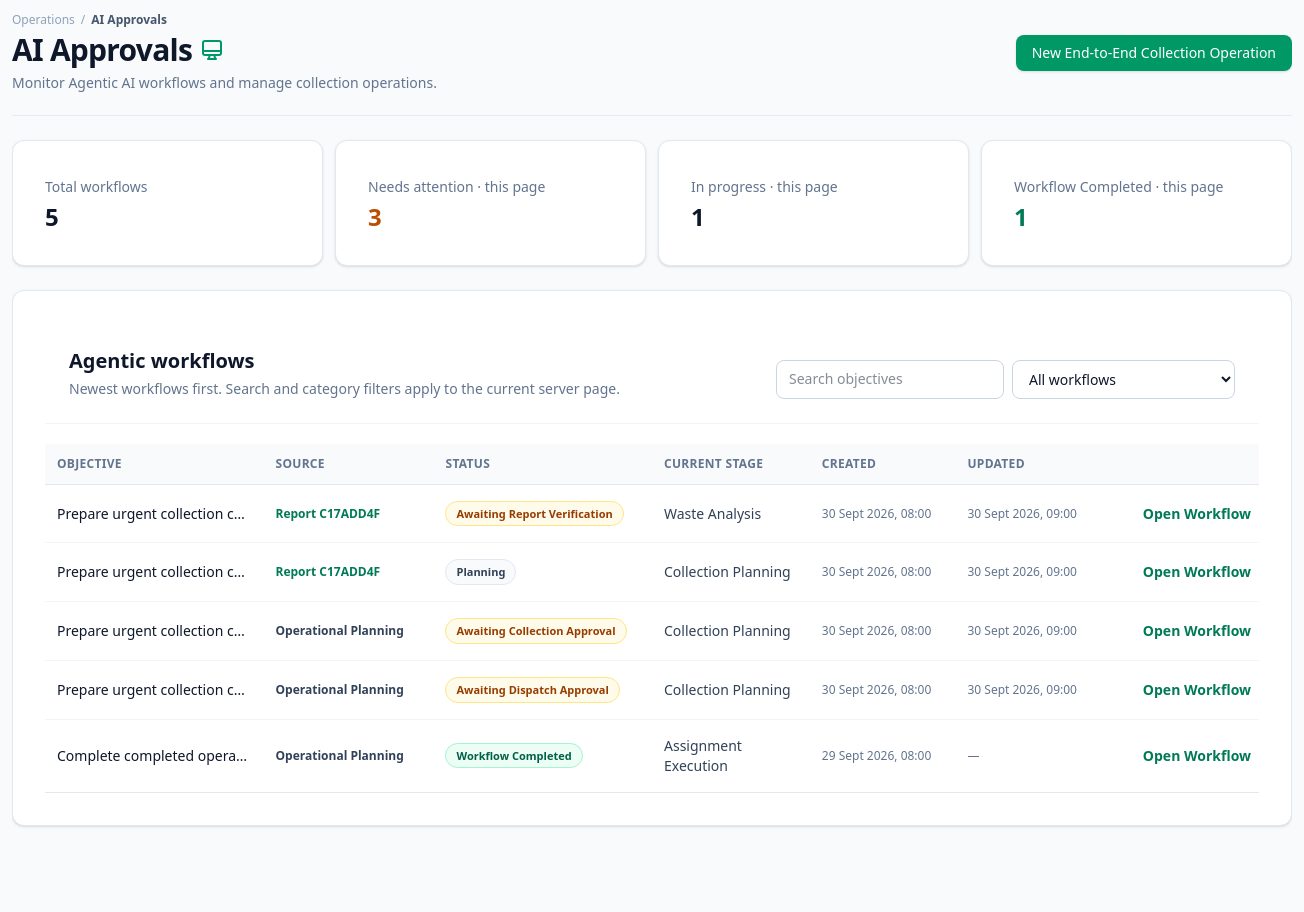
Scenario: AiApprovalsPage dashboard and initiation › shows report verification as human attention with a friendly report link and keeps planning out of that filter
Expected: the number of links "Report C17ADD4F" is 2, [276,505,380,522]; [276,563,380,580]
Expected: the cell "Report C17ADD4F" next to "Awaiting Report Verification" is shown, [276,505,380,522]
Select "Needs attention" in the dropdown named "Workflow status filter". click: point(1124, 379)
box: [1012,360,1235,399]
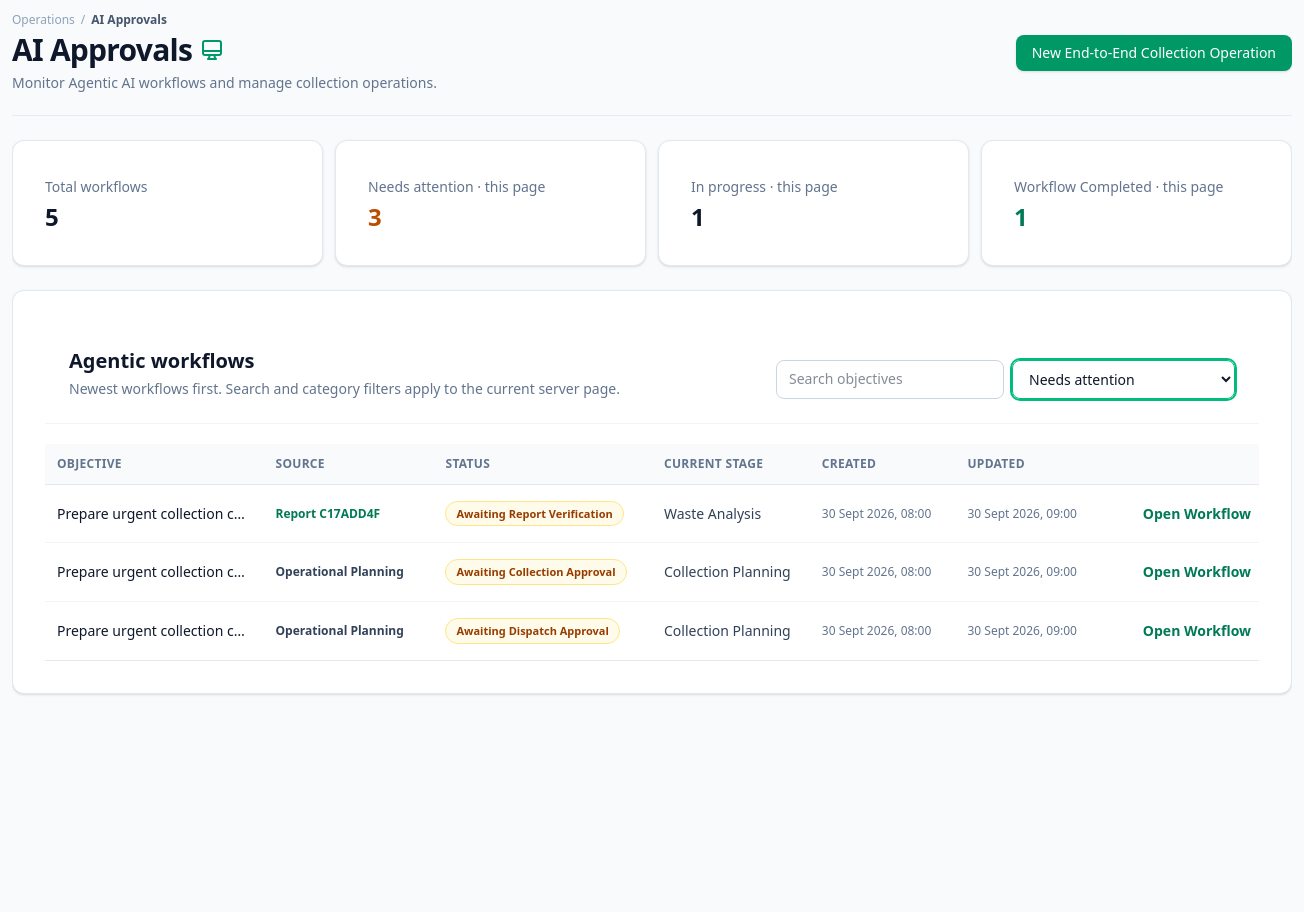
Expected: the text "Awaiting Report Verification" is shown, [446,501,624,526]
Result: the text "Operational Planning" is shown 2 times at [264,543,434,602]; [264,602,434,660]
